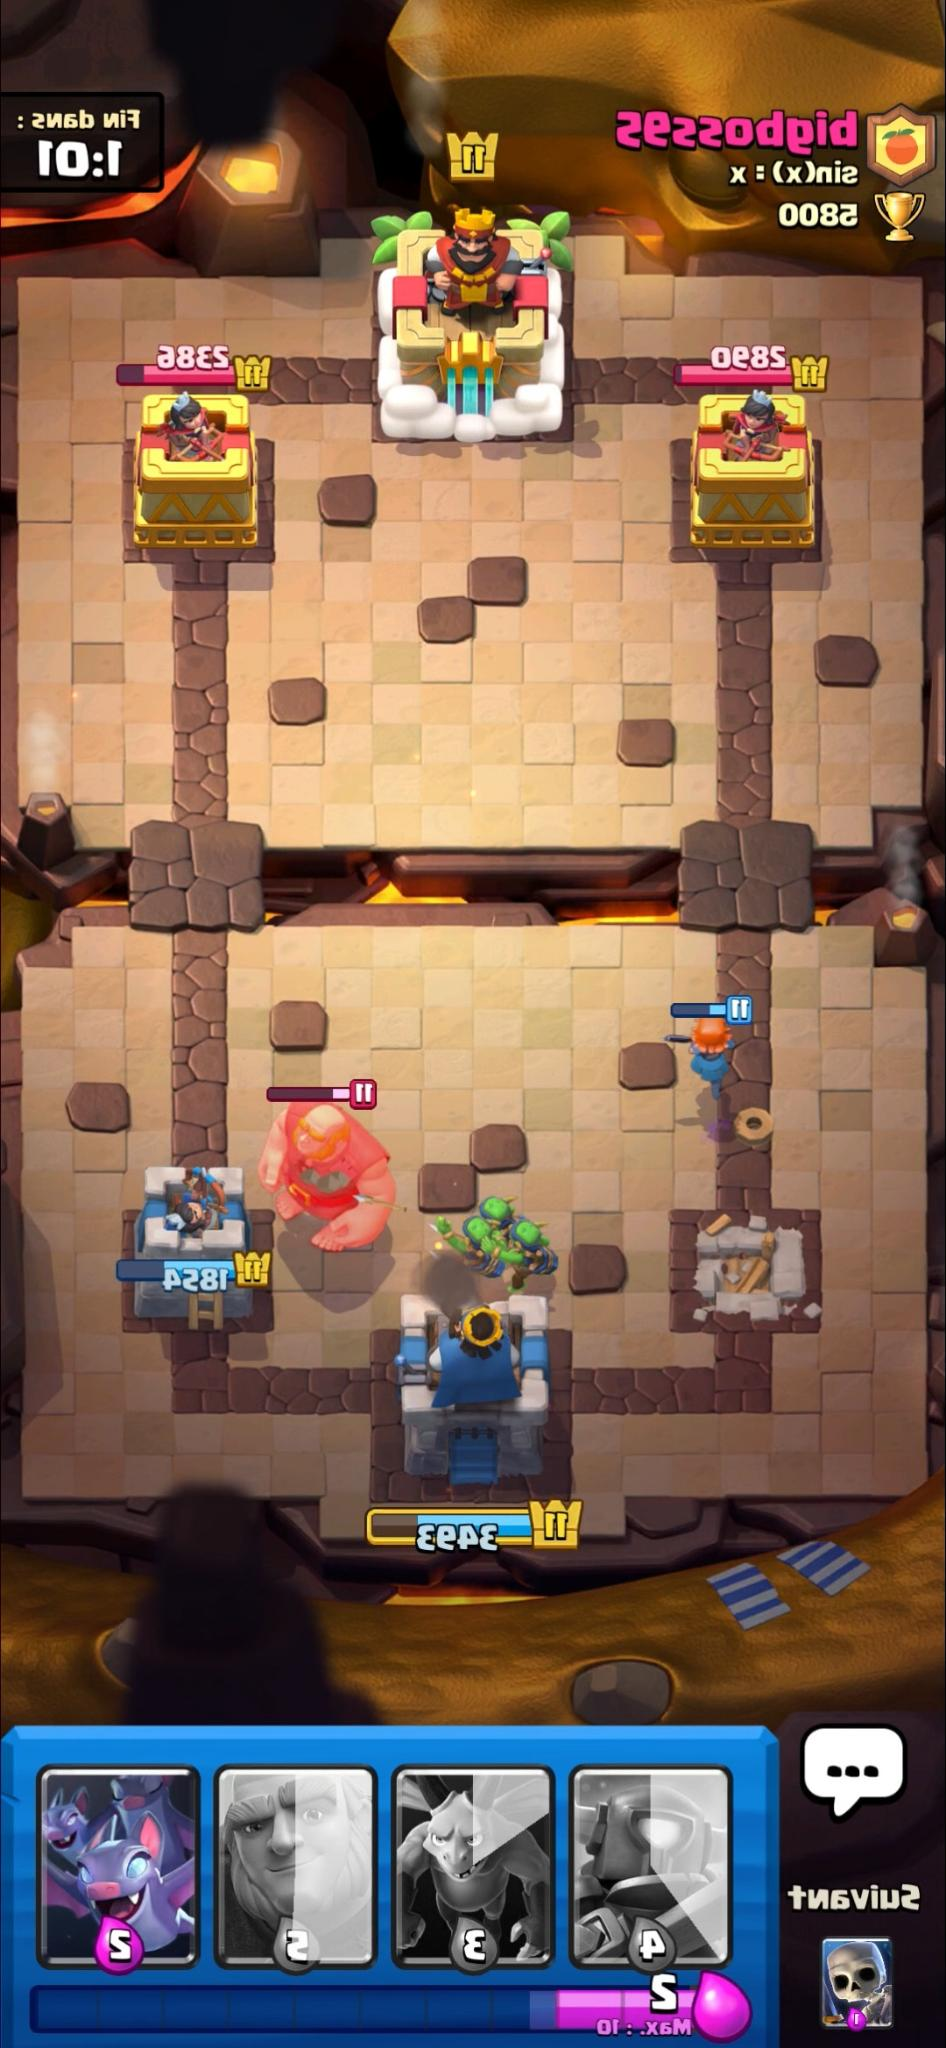geant: (257, 1106, 393, 1253)
gobelin_lances: (482, 1216, 558, 1288), (431, 1217, 500, 1273)
valkyrie: (664, 1019, 736, 1098)
